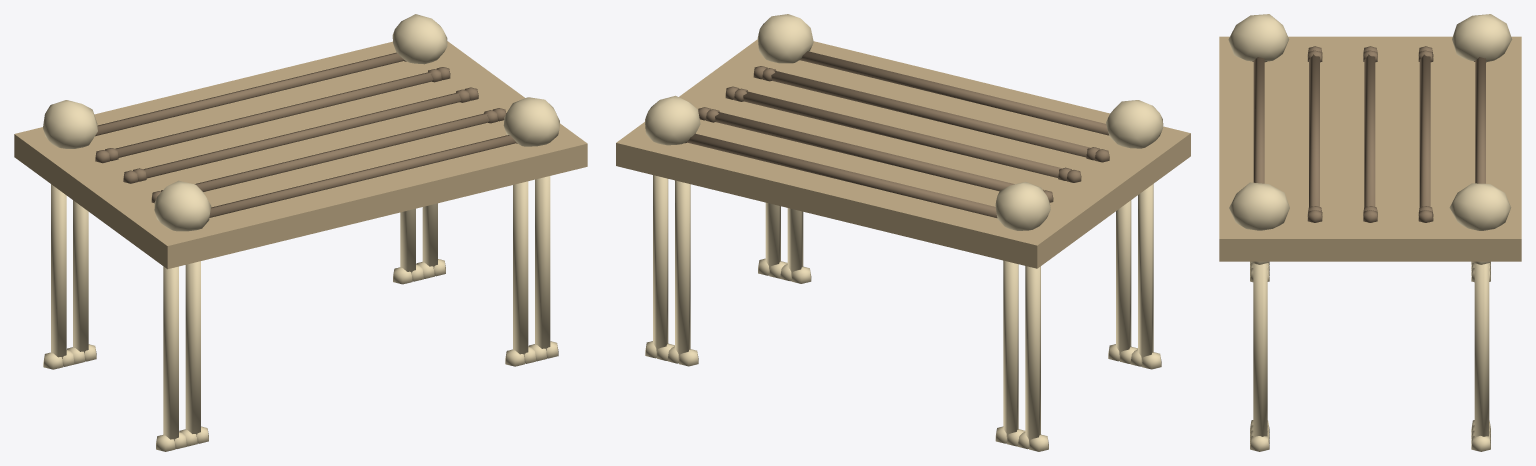
File: bone_table.glb
The picture shows the model from 3 angles, left to right: view 1: azimuth 30°, elevation 25°; view 2: azimuth 150°, elevation 25°; view 3: azimuth 270°, elevation 25°; orthographic projection.
Visible parts, largest first — view 1: bone_table; view 2: bone_table; view 3: bone_table.
Boxes of the visible parts, left/top/right/bottom form: bone_table: left=14, top=14, right=587, bottom=451; bone_table: left=616, top=14, right=1190, bottom=451; bone_table: left=1219, top=14, right=1521, bottom=451.
Size of the model in its own units: 0.95 by 0.5682 by 0.6.
